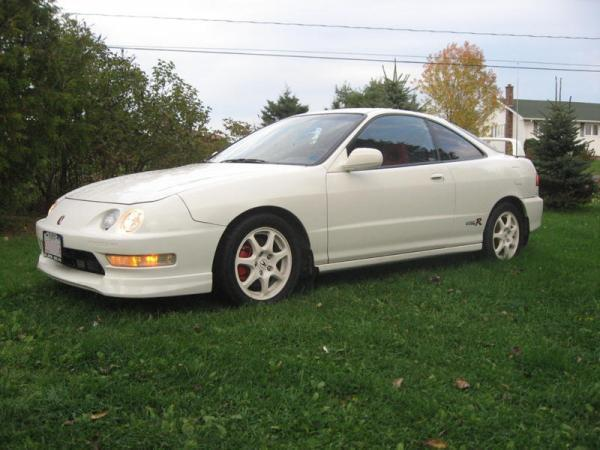Car: (23, 90, 564, 318)
